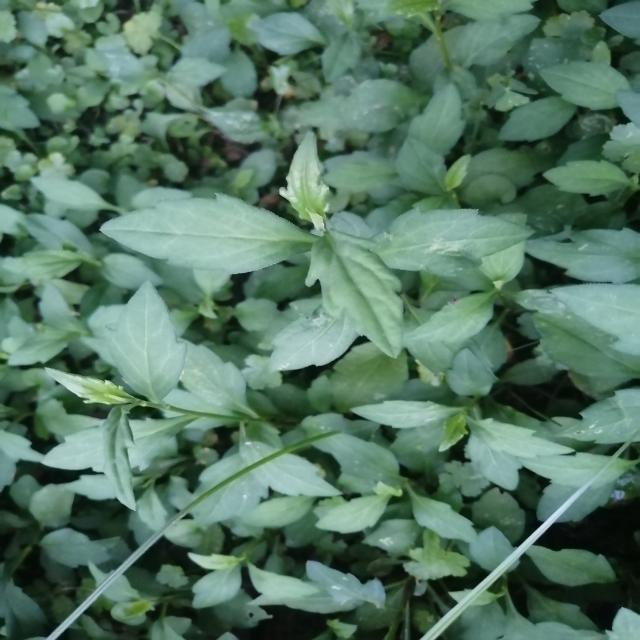Indian aster: (125, 138, 491, 367)
